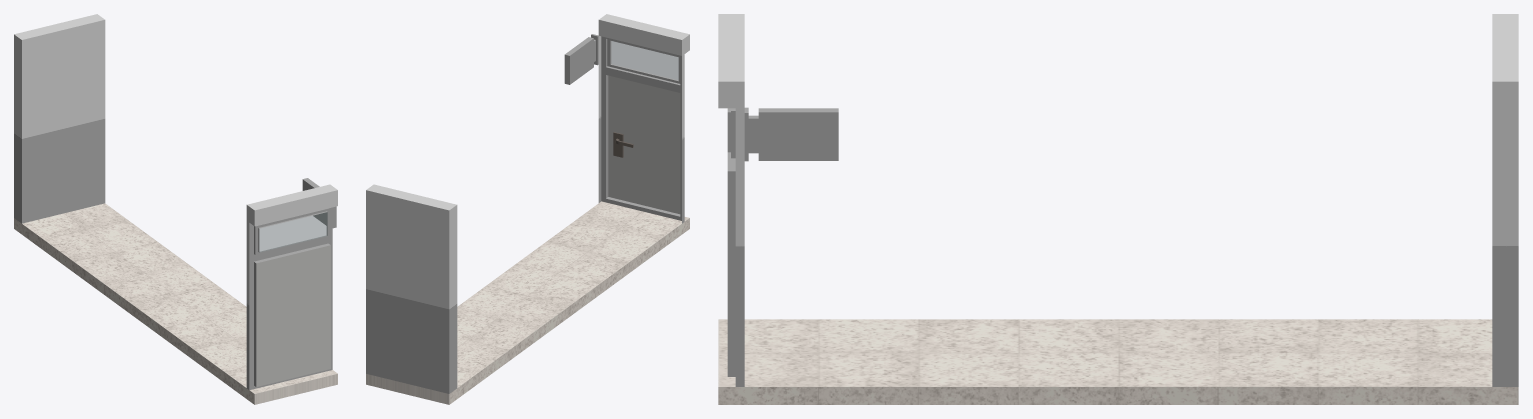
The model's file is fbx_school_floor2.fbx.
3 renders of one model, left to right at view 1: azimuth 30°, elevation 25°; view 2: azimuth 150°, elevation 25°; view 3: azimuth 270°, elevation 25°, orthographic. The views are drawn at different scales.
Parts seen in each view (by area): view 1: fbx_school_floor2; view 2: fbx_school_floor2; view 3: fbx_school_floor2.
Part boxes in pixels (box(x1,y1,x2,y2)): fbx_school_floor2: box(14, 14, 337, 404); fbx_school_floor2: box(366, 14, 689, 404); fbx_school_floor2: box(718, 14, 1518, 404).
Size of the model in its own units: 2.16 by 4.46 by 10.
Materials: 2 (1 with a texture image).
